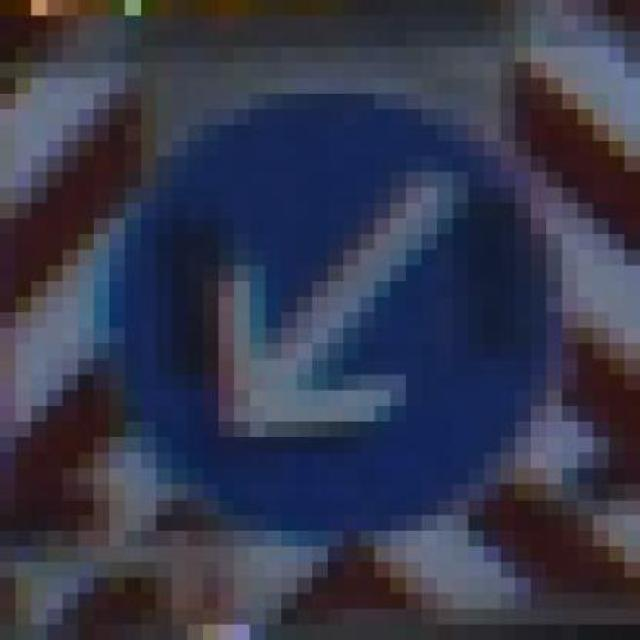Keep-Left: (78, 62, 562, 547)
